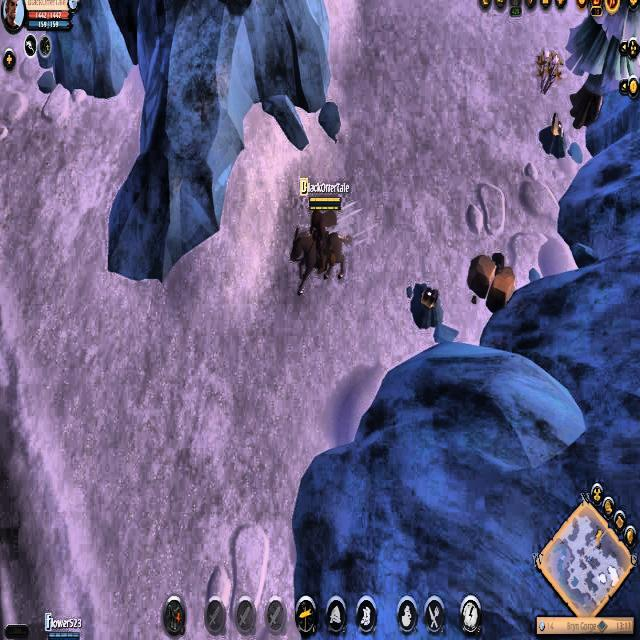copperore: (410, 278, 445, 330), (542, 108, 567, 156)
limestone: (466, 248, 514, 312)
